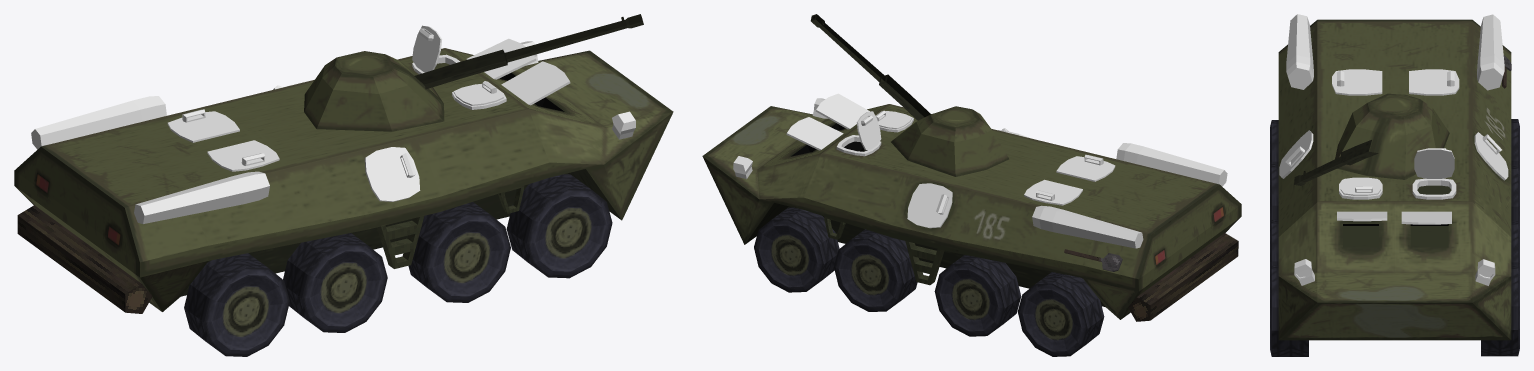
Rendered from BTR80_WIP.fbx.
The picture shows the model from 3 angles, left to right: view 1: azimuth 30°, elevation 25°; view 2: azimuth 150°, elevation 25°; view 3: azimuth 270°, elevation 25°; orthographic projection. The views are drawn at different scales.
Visible parts, largest first — view 1: Body, Turret, Wheel4_Right, Wheel1_Right, Wheel3_Right, Wheel2_Right, WoodLog, Wyzutnik_Right, Wyzutnik_Left, KPW_Barrel, WłazSmall_Right, WindowShield_Right (+7 smaller); view 2: Body, Wheel4_Left, Turret, Wheel1Left, Wheel3_Left, Wheel2_Left, WoodLog, Wyzutnik_Left, Wyzutnik_Right, KPW_Barrel, WłazSmall_Left, WindowShield_Left (+7 smaller); view 3: Body, Turret, Wyzutnik_Right, Wyzutnik_Left, Wheel1Left, Wheel1_Right, WłazTop_Right, WłazTop_Left, WladDriver_Left, KPW_Barrel, WłazSmall_Left, WłazSmall_Right (+13 smaller).
Boxes of the visible parts, x1,y1,x2,y2 form: Body: [14, 48, 673, 311]; Turret: [304, 51, 444, 131]; Wheel4_Right: [184, 253, 289, 356]; Wheel1_Right: [506, 174, 612, 278]; Wheel3_Right: [283, 233, 387, 332]; Wheel2_Right: [408, 202, 510, 302]; WoodLog: [17, 205, 152, 313]; Wyzutnik_Right: [134, 171, 269, 223]; Wyzutnik_Left: [31, 96, 166, 149]; KPW_Barrel: [414, 14, 643, 89]; WłazSmall_Right: [364, 147, 420, 201]; WindowShield_Right: [501, 61, 570, 105]; Body: [702, 104, 1241, 319]; Wheel4_Left: [1017, 272, 1104, 356]; Turret: [891, 106, 1009, 176]; Wheel1Left: [754, 207, 839, 292]; Wheel3_Left: [934, 255, 1021, 336]; Wheel2_Left: [834, 229, 917, 311]; WoodLog: [1128, 233, 1238, 321]; Wyzutnik_Left: [1032, 205, 1143, 248]; Wyzutnik_Right: [1116, 143, 1227, 186]; KPW_Barrel: [810, 14, 930, 120]; WłazSmall_Left: [907, 183, 952, 228]; WindowShield_Left: [786, 117, 843, 150]; Body: [1278, 19, 1511, 340]; Turret: [1335, 93, 1449, 179]; Wyzutnik_Right: [1286, 14, 1313, 89]; Wyzutnik_Left: [1477, 14, 1504, 90]; Wheel1Left: [1481, 264, 1519, 356]; Wheel1_Right: [1270, 265, 1308, 356]; WłazTop_Right: [1332, 69, 1382, 95]; WłazTop_Left: [1409, 69, 1459, 95]; WladDriver_Left: [1414, 148, 1454, 178]; KPW_Barrel: [1294, 140, 1378, 185]; WłazSmall_Left: [1474, 132, 1508, 180]; WłazSmall_Right: [1279, 130, 1313, 178].
Size of the model in its own units: 1545 by 610 by 645.
